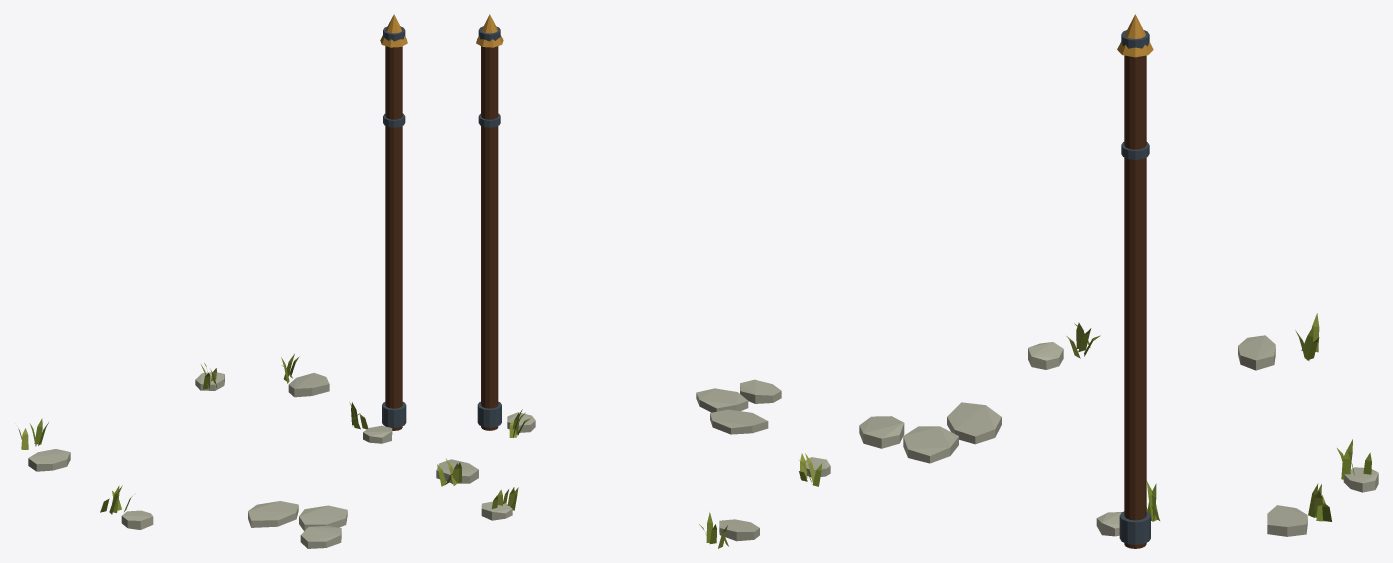
Rendered from foundation.glb.
The picture shows the model from 3 angles, left to right: view 1: azimuth 30°, elevation 25°; view 2: azimuth 150°, elevation 25°; view 3: azimuth 270°, elevation 25°; orthographic projection. The views are drawn at different scales.
Visible parts, largest first — view 1: Timber, Stone, Foliage, Metal; view 2: Timber, Stone, Foliage, Metal; view 3: Timber, Stone, Foliage, Metal.
Part boxes in pixels (left/top/right/bottom): Timber: left=385, top=46, right=402, bottom=430; Stone: left=28, top=372, right=392, bottom=548; Foliage: left=18, top=353, right=368, bottom=514; Metal: left=380, top=14, right=407, bottom=427; Timber: left=481, top=46, right=498, bottom=430; Stone: left=436, top=379, right=830, bottom=541; Foliage: left=437, top=409, right=822, bottom=548; Metal: left=476, top=14, right=503, bottom=427; Timber: left=1124, top=55, right=1146, bottom=548; Stone: left=859, top=335, right=1378, bottom=536; Foliage: left=1066, top=313, right=1371, bottom=521; Metal: left=1117, top=14, right=1153, bottom=544.
Bounding box in the file's own units: 3.7 × 4.47 × 3.96.
